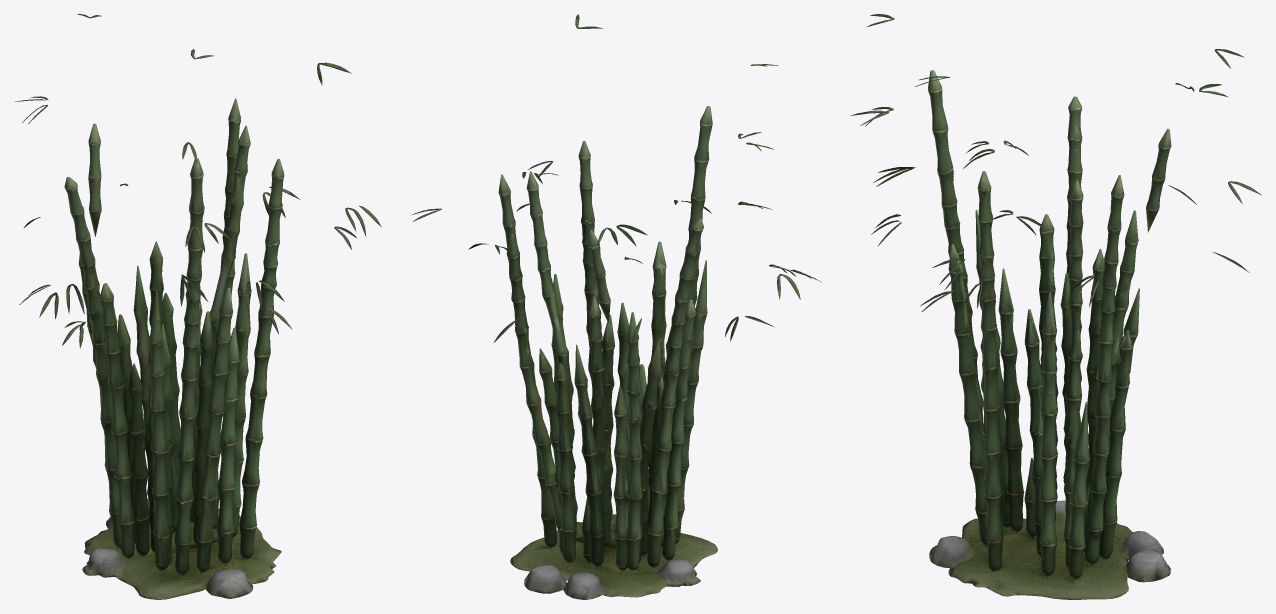
File: bambooA.glb
3 views of the same model, side by side, from view 1: azimuth 30°, elevation 25°; view 2: azimuth 150°, elevation 25°; view 3: azimuth 270°, elevation 25° (orthographic). The views are drawn at different scales.
Visible parts, largest first — view 1: node_0; view 2: node_0; view 3: node_0.
Part boxes in pixels (x1,y1,x2,y2): node_0: (15, 14, 381, 599); node_0: (412, 14, 821, 599); node_0: (850, 14, 1261, 599).
Bounding box in the file's own units: 2.04 × 3 × 2.12.
1 material, 1 textured.
